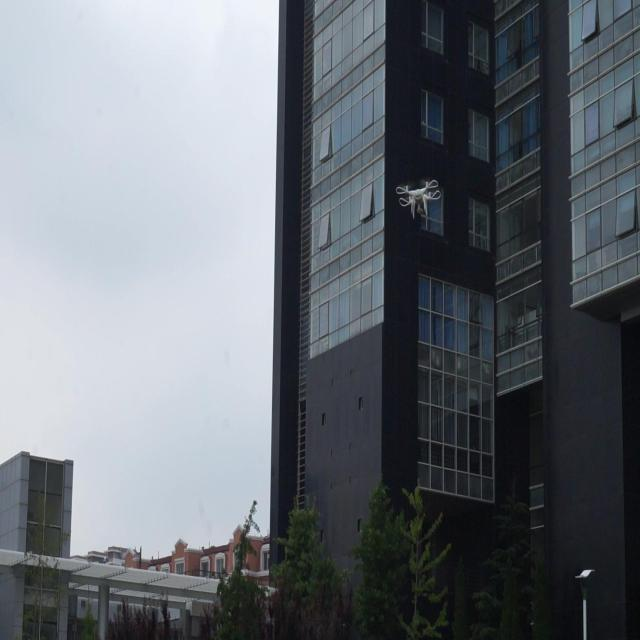drone: (396, 179, 443, 223)
